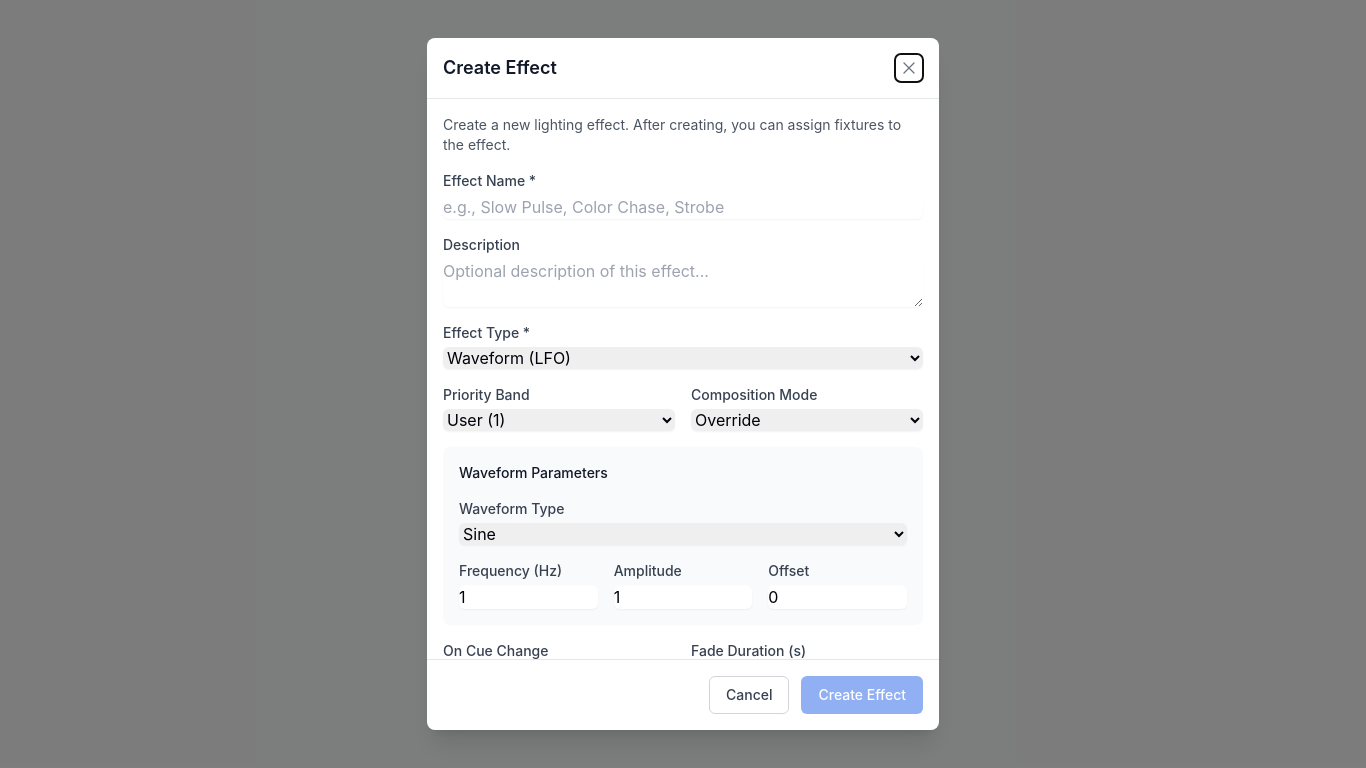
Test case: CreateEffectModal › form interactions › hides waveform parameters when non-waveform type is selected
Select "Static" in the dropdown labelled "Effect Type *" at {"x": 683, "y": 358}, box [443, 347, 923, 369]
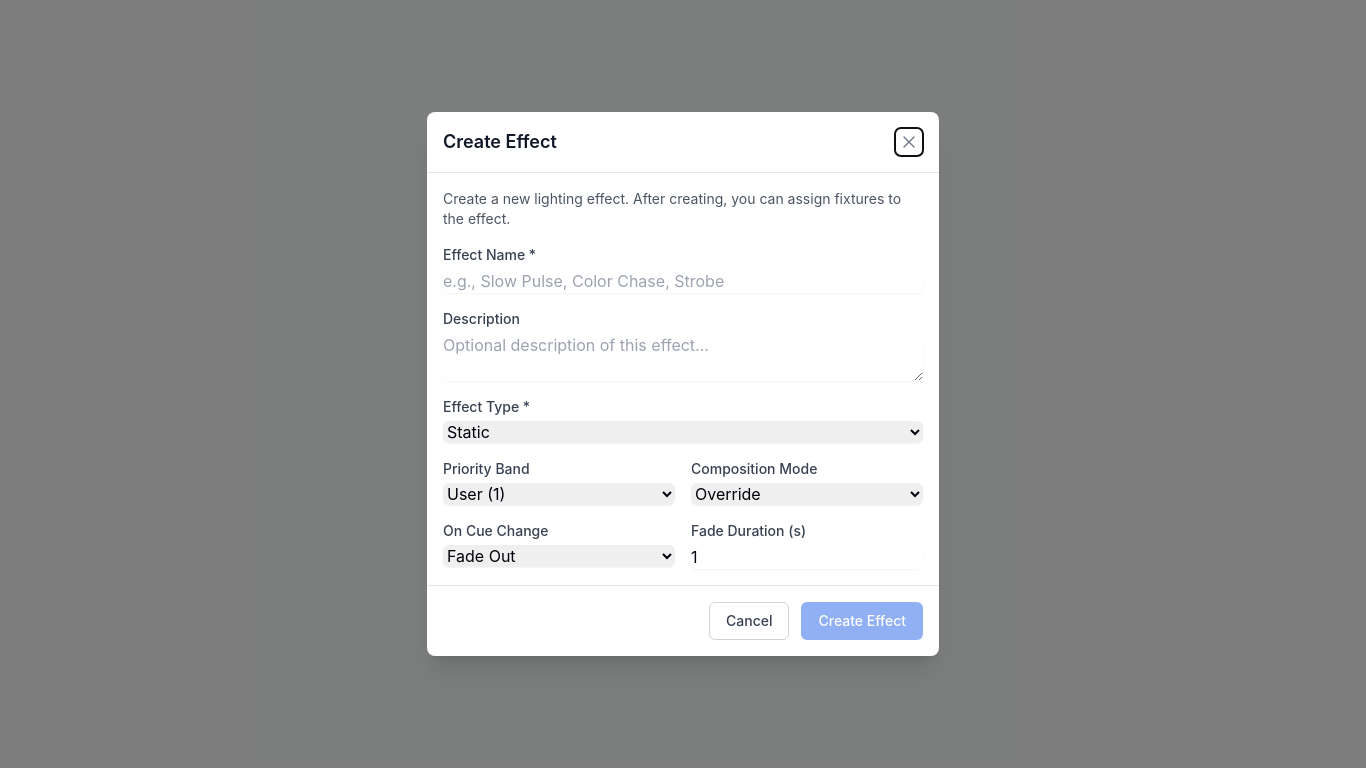
Now the heading "Waveform Parameters" is gone
